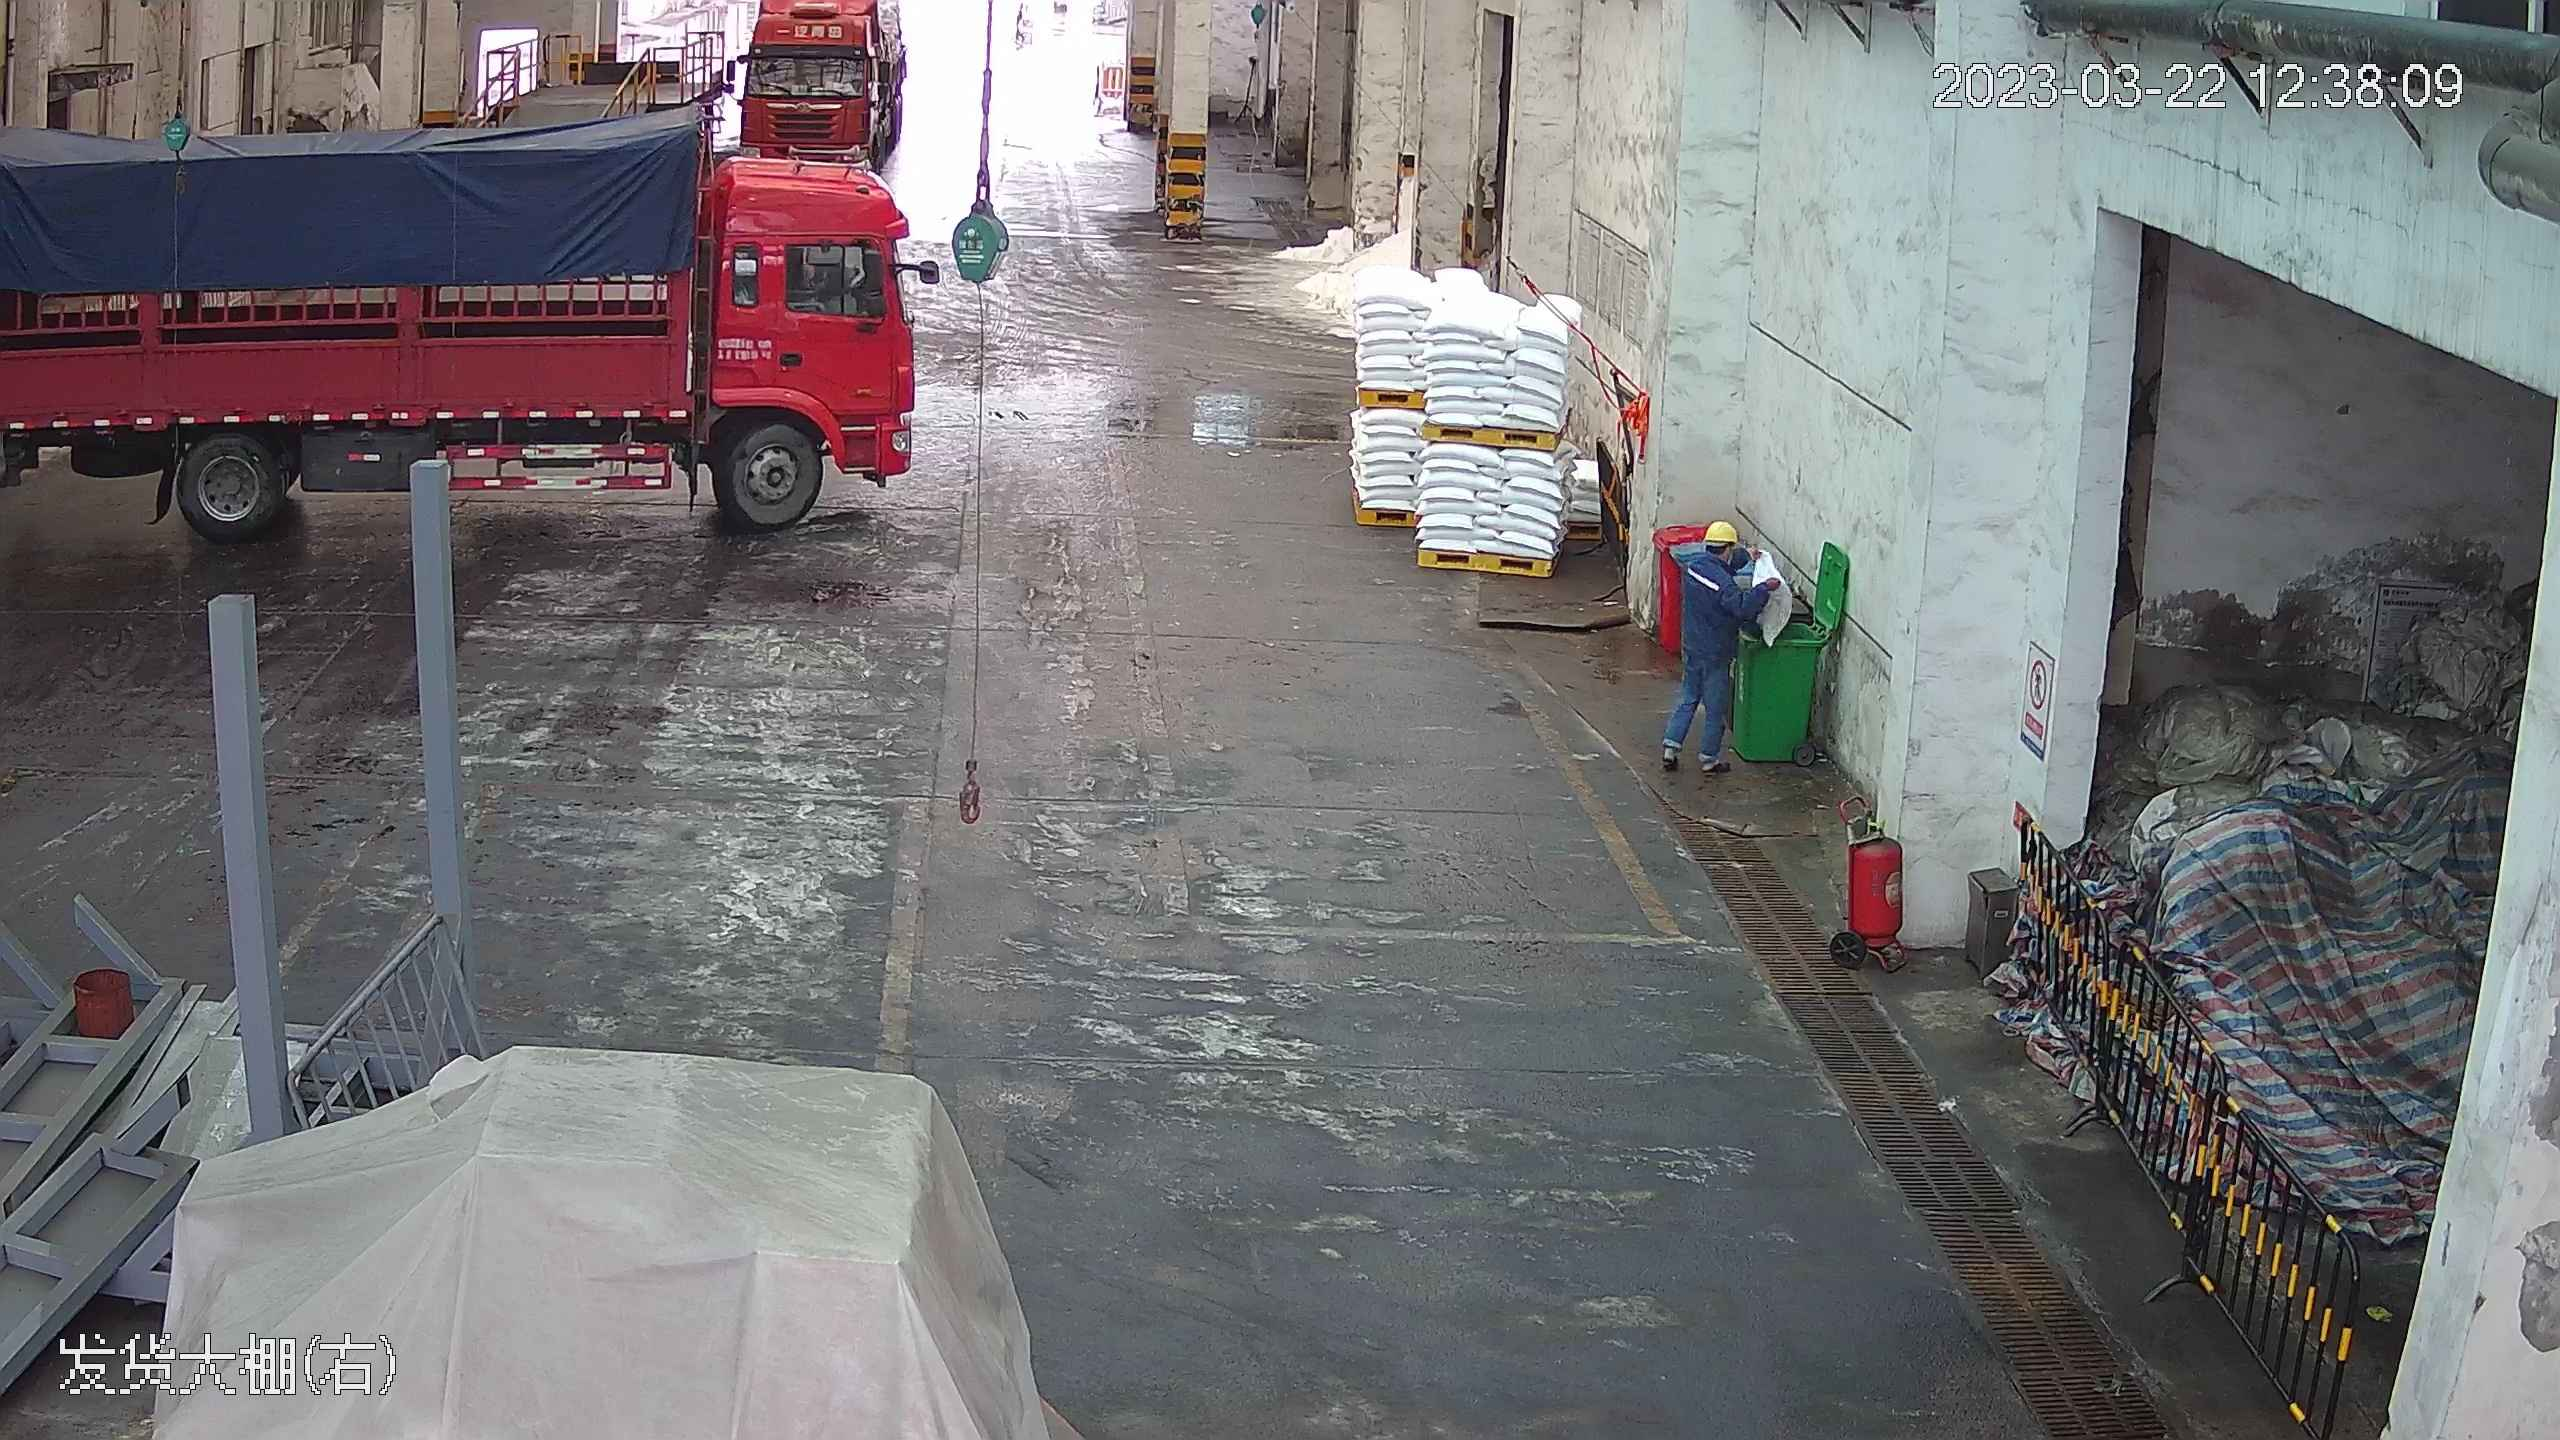head: (1684, 516, 1750, 596)
helmet: (1702, 515, 1743, 546)
people: (1661, 514, 1758, 776)
truck: (2, 255, 944, 512)
